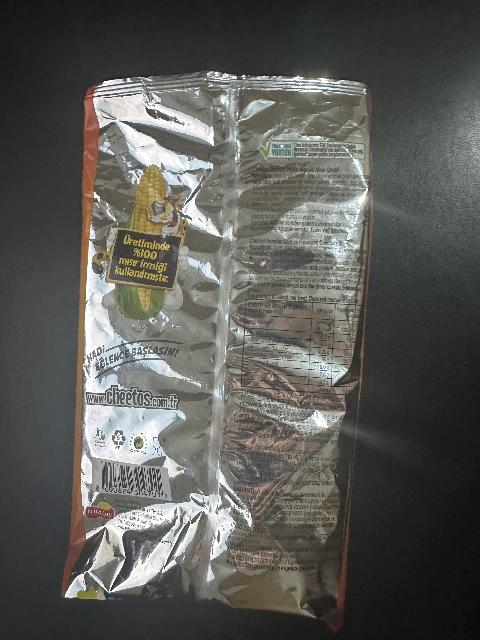Plastik: (78, 78, 362, 633)
